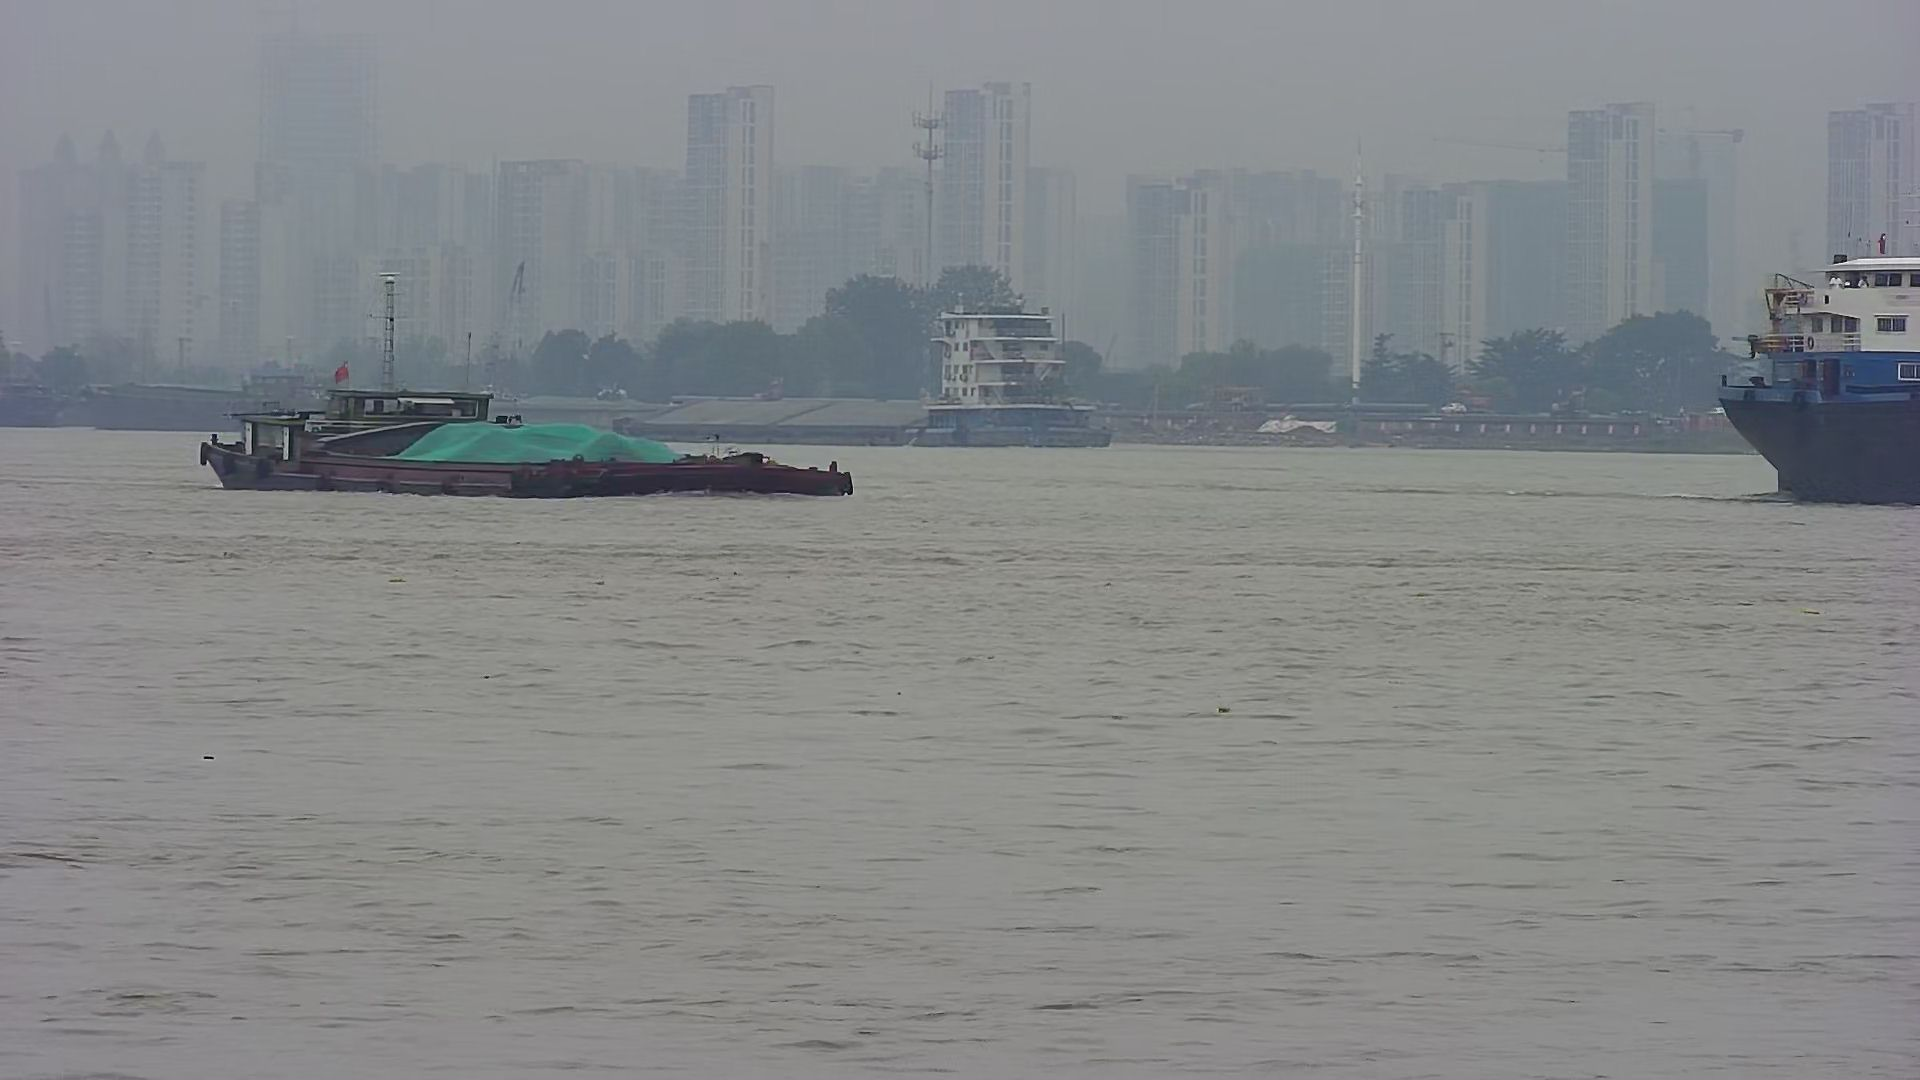ship: (182, 338, 873, 516), (588, 268, 1124, 458), (1679, 208, 1917, 505)
